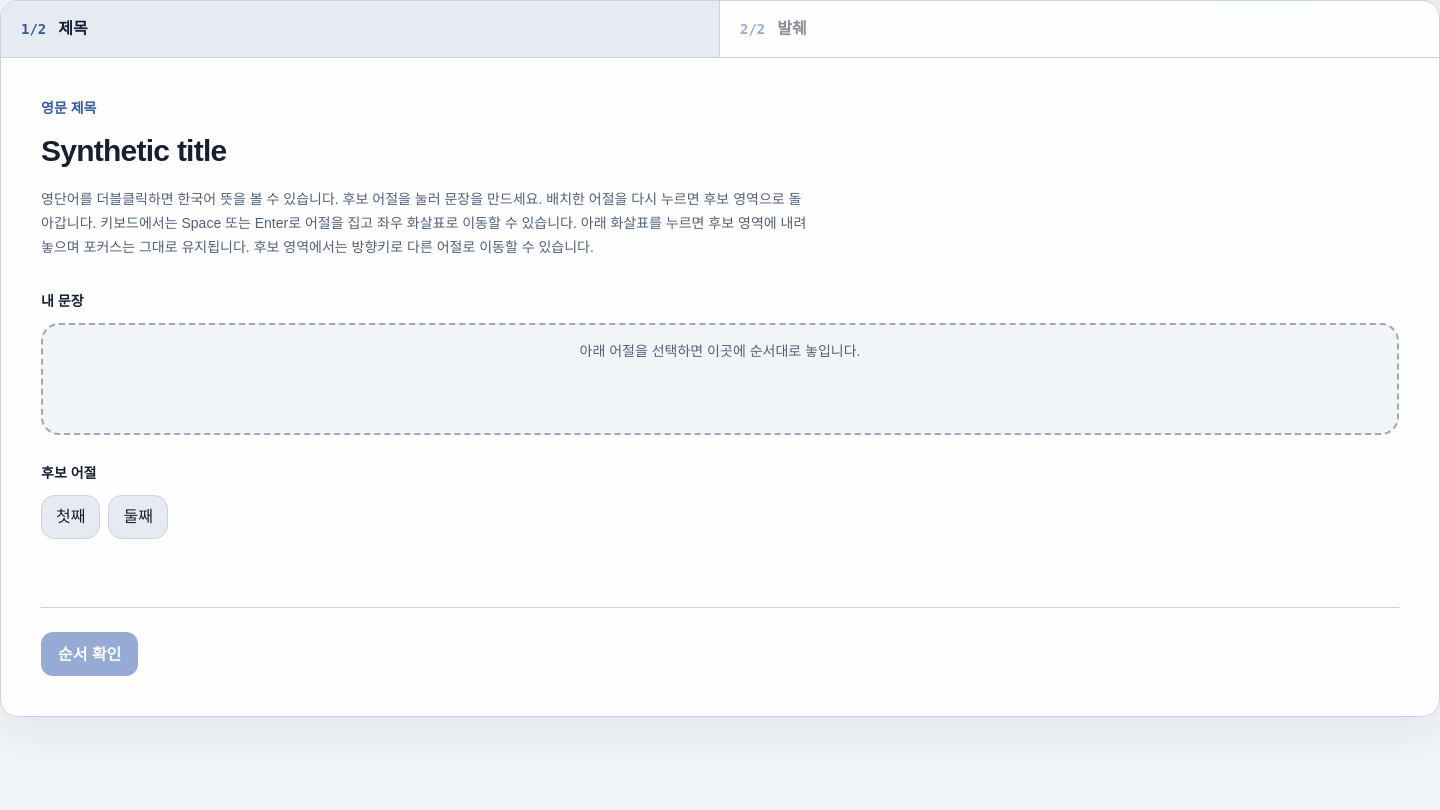
LessonPlayer › marks each misplaced word directly instead of listing position numbers
The image size is (1440, 810).
Click the button with aria-label "첫째 어절을 내 문장으로 이동" at (71, 517), box top-left (41, 495), bottom-right (100, 539)
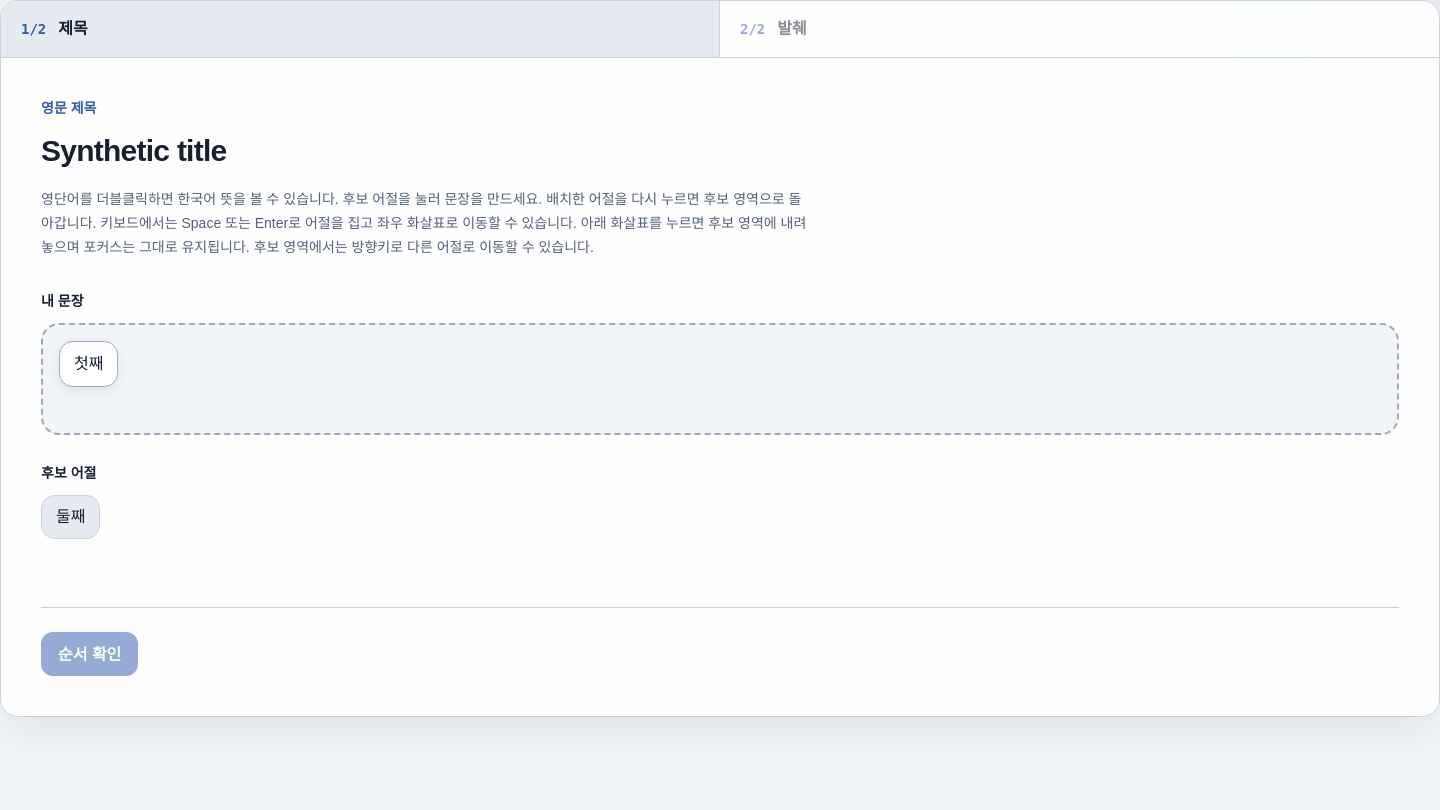
Click the button with aria-label "둘째 어절을 내 문장으로 이동" at (71, 517), box top-left (41, 495), bottom-right (100, 539)
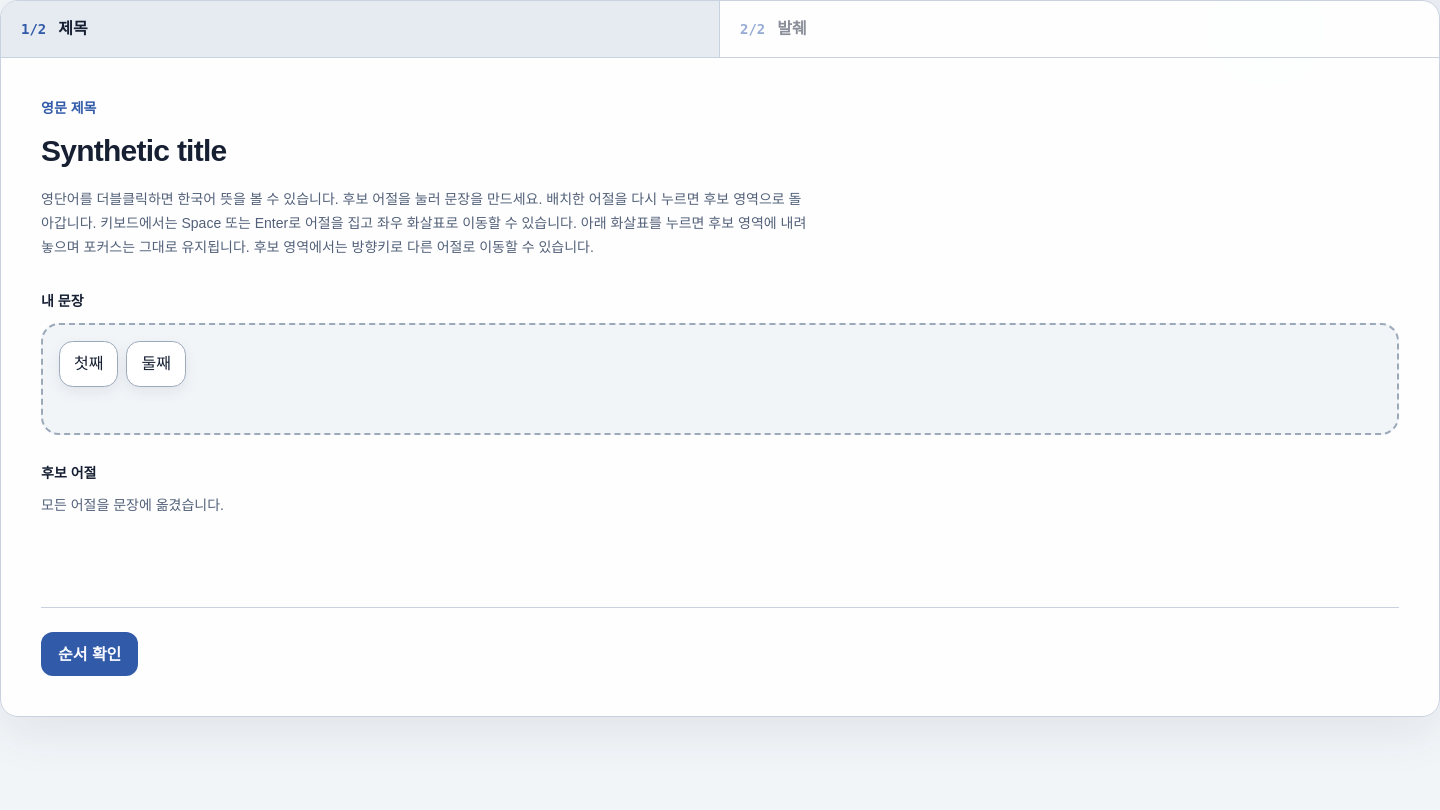
Click the button "순서 확인" at (90, 654), box top-left (41, 632), bottom-right (138, 676)
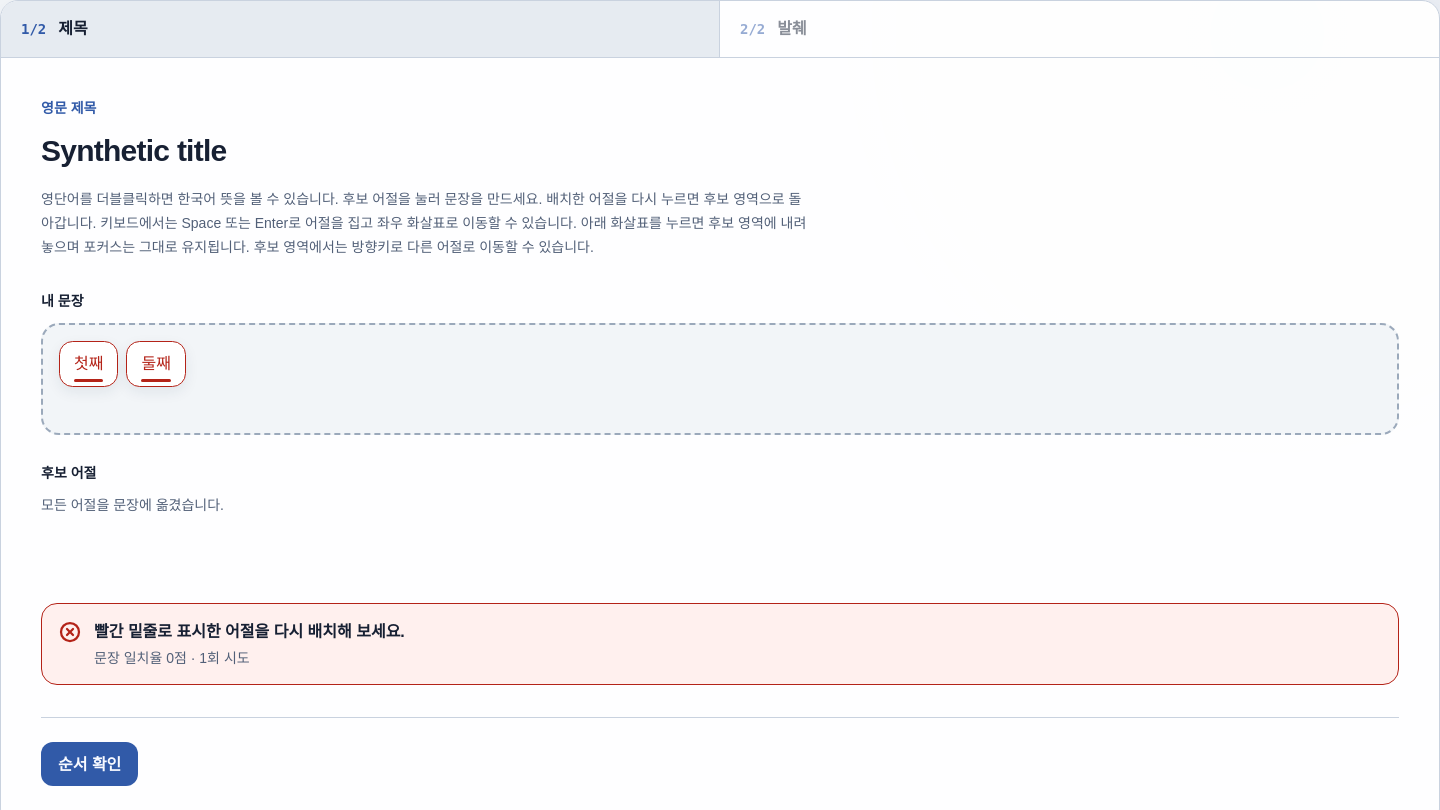
Expected: the element named "오류로 표시됨" is shown, top-left (59, 341), bottom-right (118, 387)
Expected: the number of buttons named "오류로 표시됨" is 2, top-left (60, 342), bottom-right (118, 386); top-left (128, 342), bottom-right (185, 386)
Expected: the text "빨간 밑줄로 표시한 어절을 다시 배치해 보세요." is shown, top-left (94, 620), bottom-right (405, 644)
